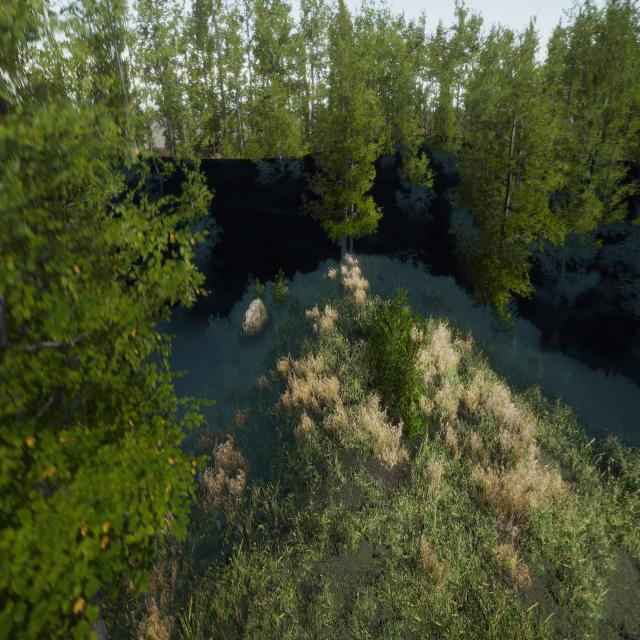Human: (308, 314, 320, 350)
